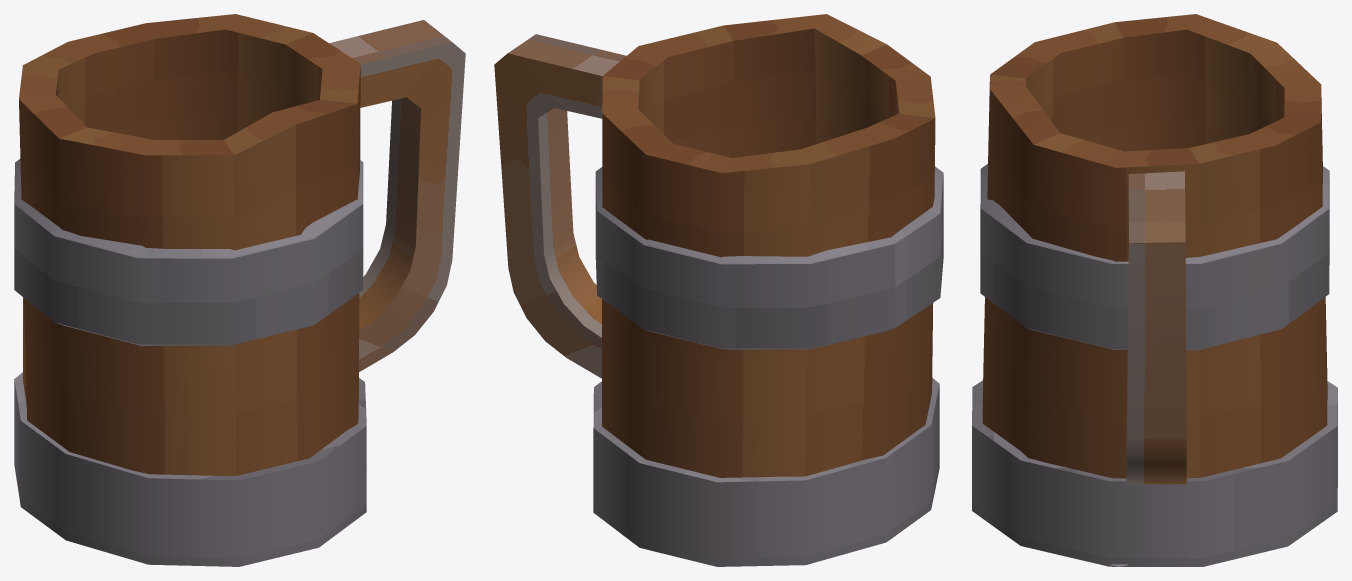
File: mug-CjqZ0e-k.glb
The picture shows the model from 3 angles, left to right: view 1: azimuth 30°, elevation 25°; view 2: azimuth 150°, elevation 25°; view 3: azimuth 270°, elevation 25°; orthographic projection. The views are drawn at different scales.
Bounding box in the file's own units: 0.1921 × 0.1839 × 0.1468.
Materials: 1 (1 with a texture image).
